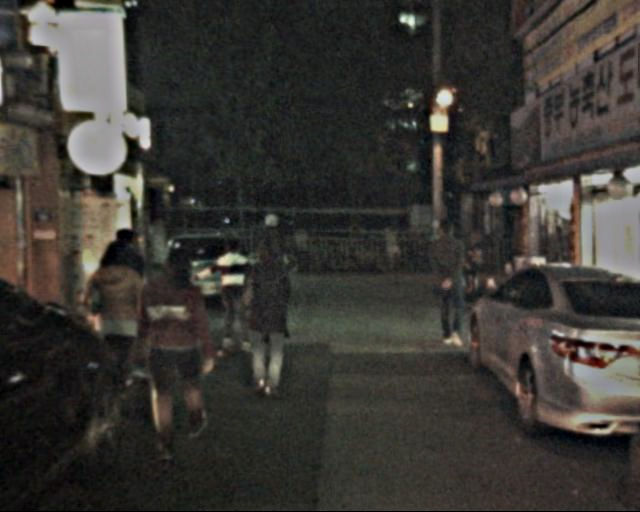person: (136, 243, 218, 443), (236, 241, 300, 401), (90, 247, 151, 392), (100, 229, 157, 361), (421, 221, 479, 344), (207, 234, 257, 354), (252, 215, 300, 328)
